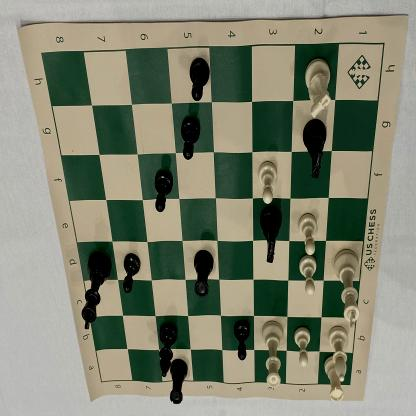black-bishop: (156, 318, 178, 382)
black-king: (78, 249, 113, 334)
black-knight: (298, 115, 329, 183), (258, 202, 284, 266)
black-pawn: (187, 56, 211, 105), (178, 115, 202, 163), (152, 167, 175, 216), (121, 250, 141, 297), (231, 318, 252, 362)
black-rook: (191, 246, 216, 302), (167, 355, 190, 411)
white-bishop: (327, 324, 351, 385)
white-king: (329, 247, 365, 331)
white-knight: (301, 55, 336, 121)
white-pawn: (255, 159, 280, 205), (297, 210, 320, 258), (292, 324, 313, 370), (298, 253, 319, 298)
white-queen: (258, 318, 286, 394)
white-rook: (321, 353, 346, 404)
